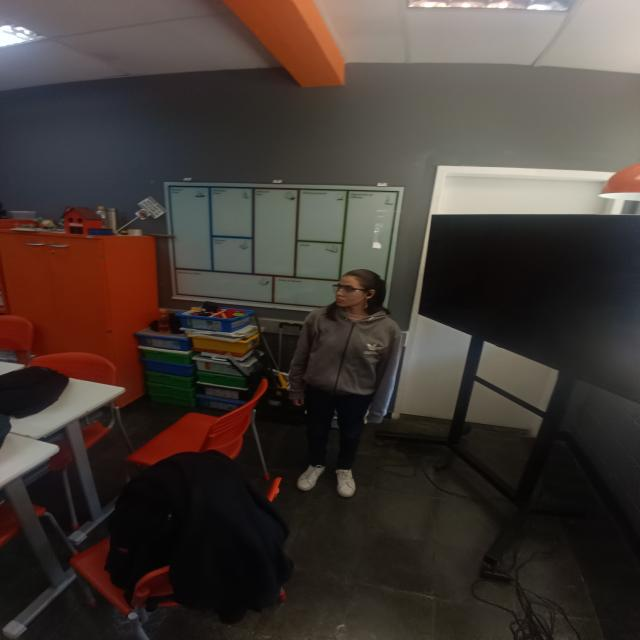oculos-epi: (332, 285, 369, 296)
